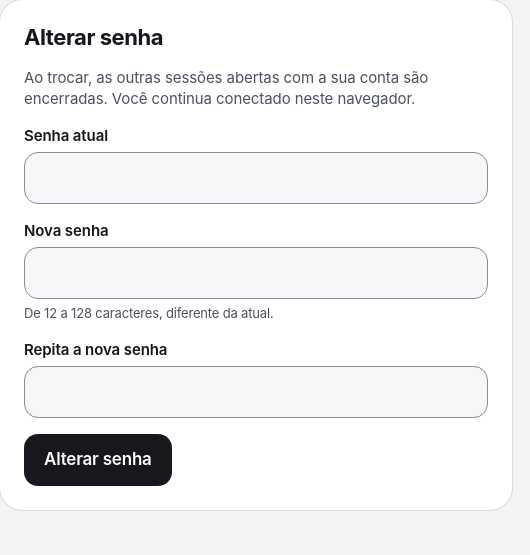
Test: PasswordForm › senha atual incorreta (403): erro no campo e todos os campos limpos
Type "errada-errada-123" into the password field labelled "Senha atual".
click(256, 178); type("errada-errada-123")  # box left=24, top=152, right=488, bottom=204
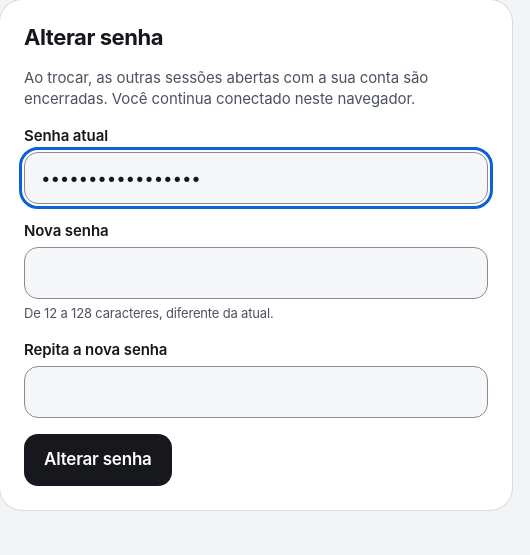
Type "uma-senha-nova-bem-longa" into the password field labelled "Nova senha".
click(256, 273); type("uma-senha-nova-bem-longa")  # box left=24, top=247, right=488, bottom=299
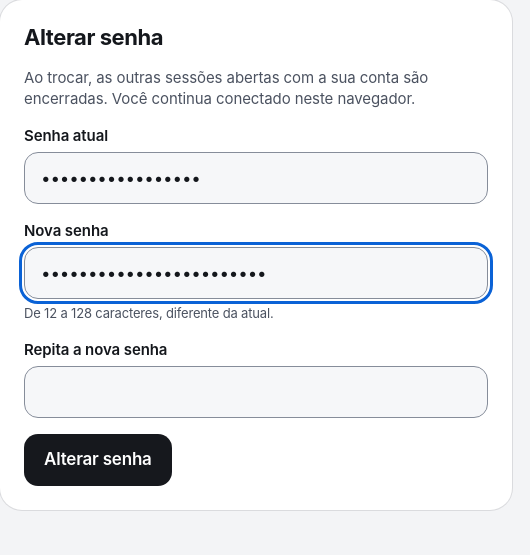
Type "uma-senha-nova-bem-longa" into the password field labelled "Repita a nova senha".
click(256, 392); type("uma-senha-nova-bem-longa")  # box left=24, top=366, right=488, bottom=418
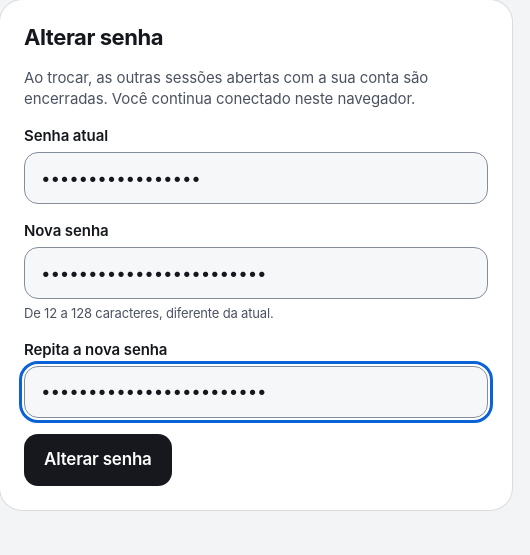
Click the button "Alterar senha".
click(98, 460)  # box left=24, top=434, right=172, bottom=486
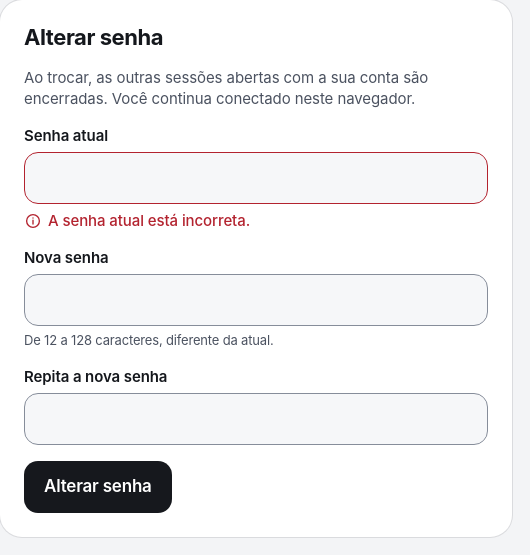
expect the text "A senha atual está incorreta." is shown: met, box left=24, top=211, right=250, bottom=230
expect the password field labelled "Nova senha" is empty: met, box left=24, top=274, right=488, bottom=326
